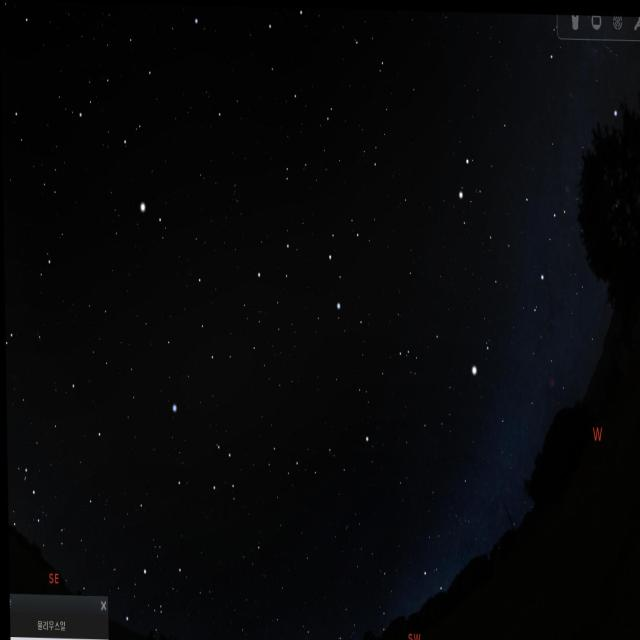bootes: (92, 20, 175, 226)
canis_minor: (460, 324, 502, 388)
gemini: (455, 146, 561, 294)
leo: (244, 205, 371, 329)
